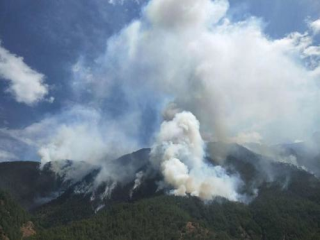smoke: (126, 10, 313, 146), (30, 88, 146, 201), (158, 112, 238, 203)
